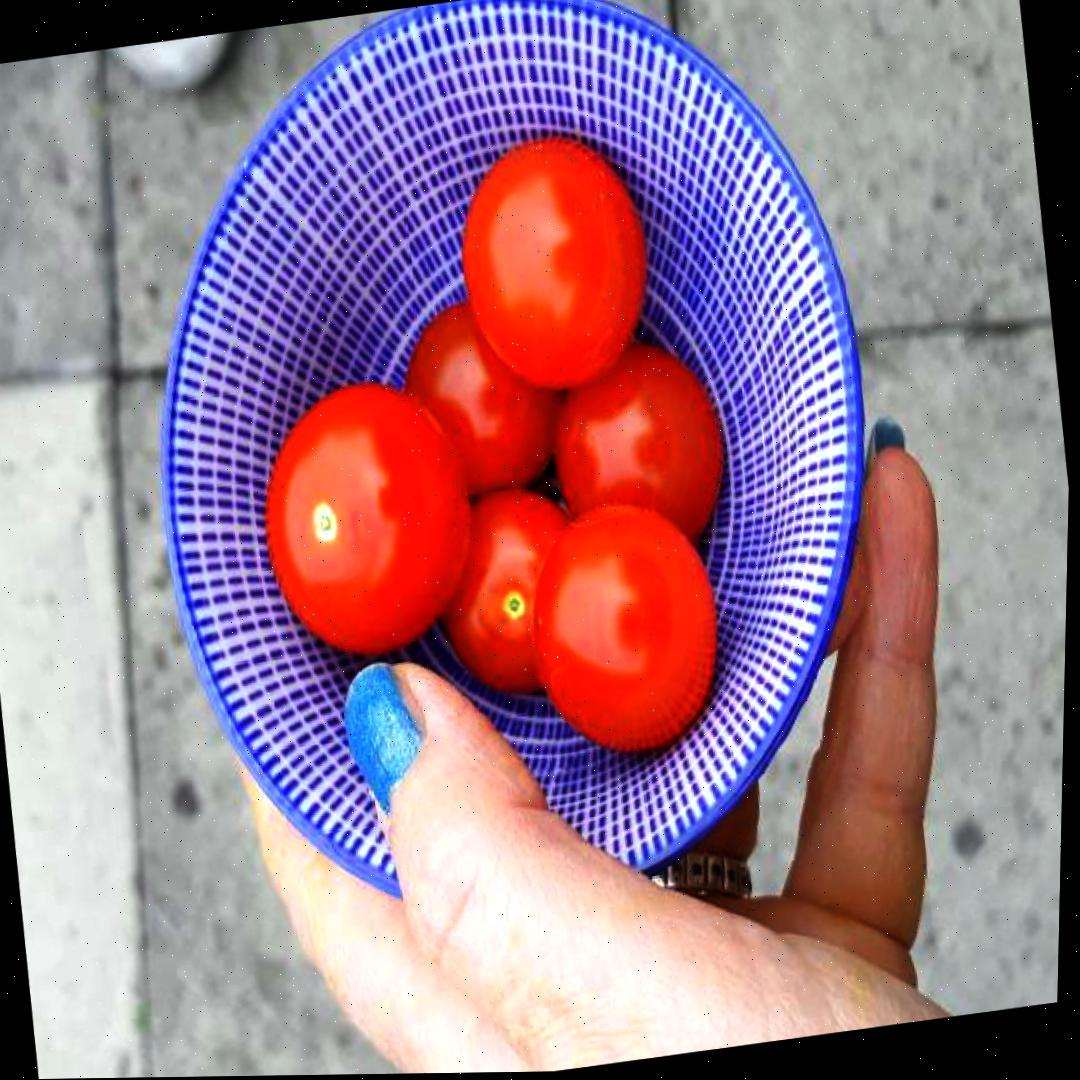matang: (244, 371, 486, 663), (514, 494, 733, 765), (446, 128, 664, 397)
